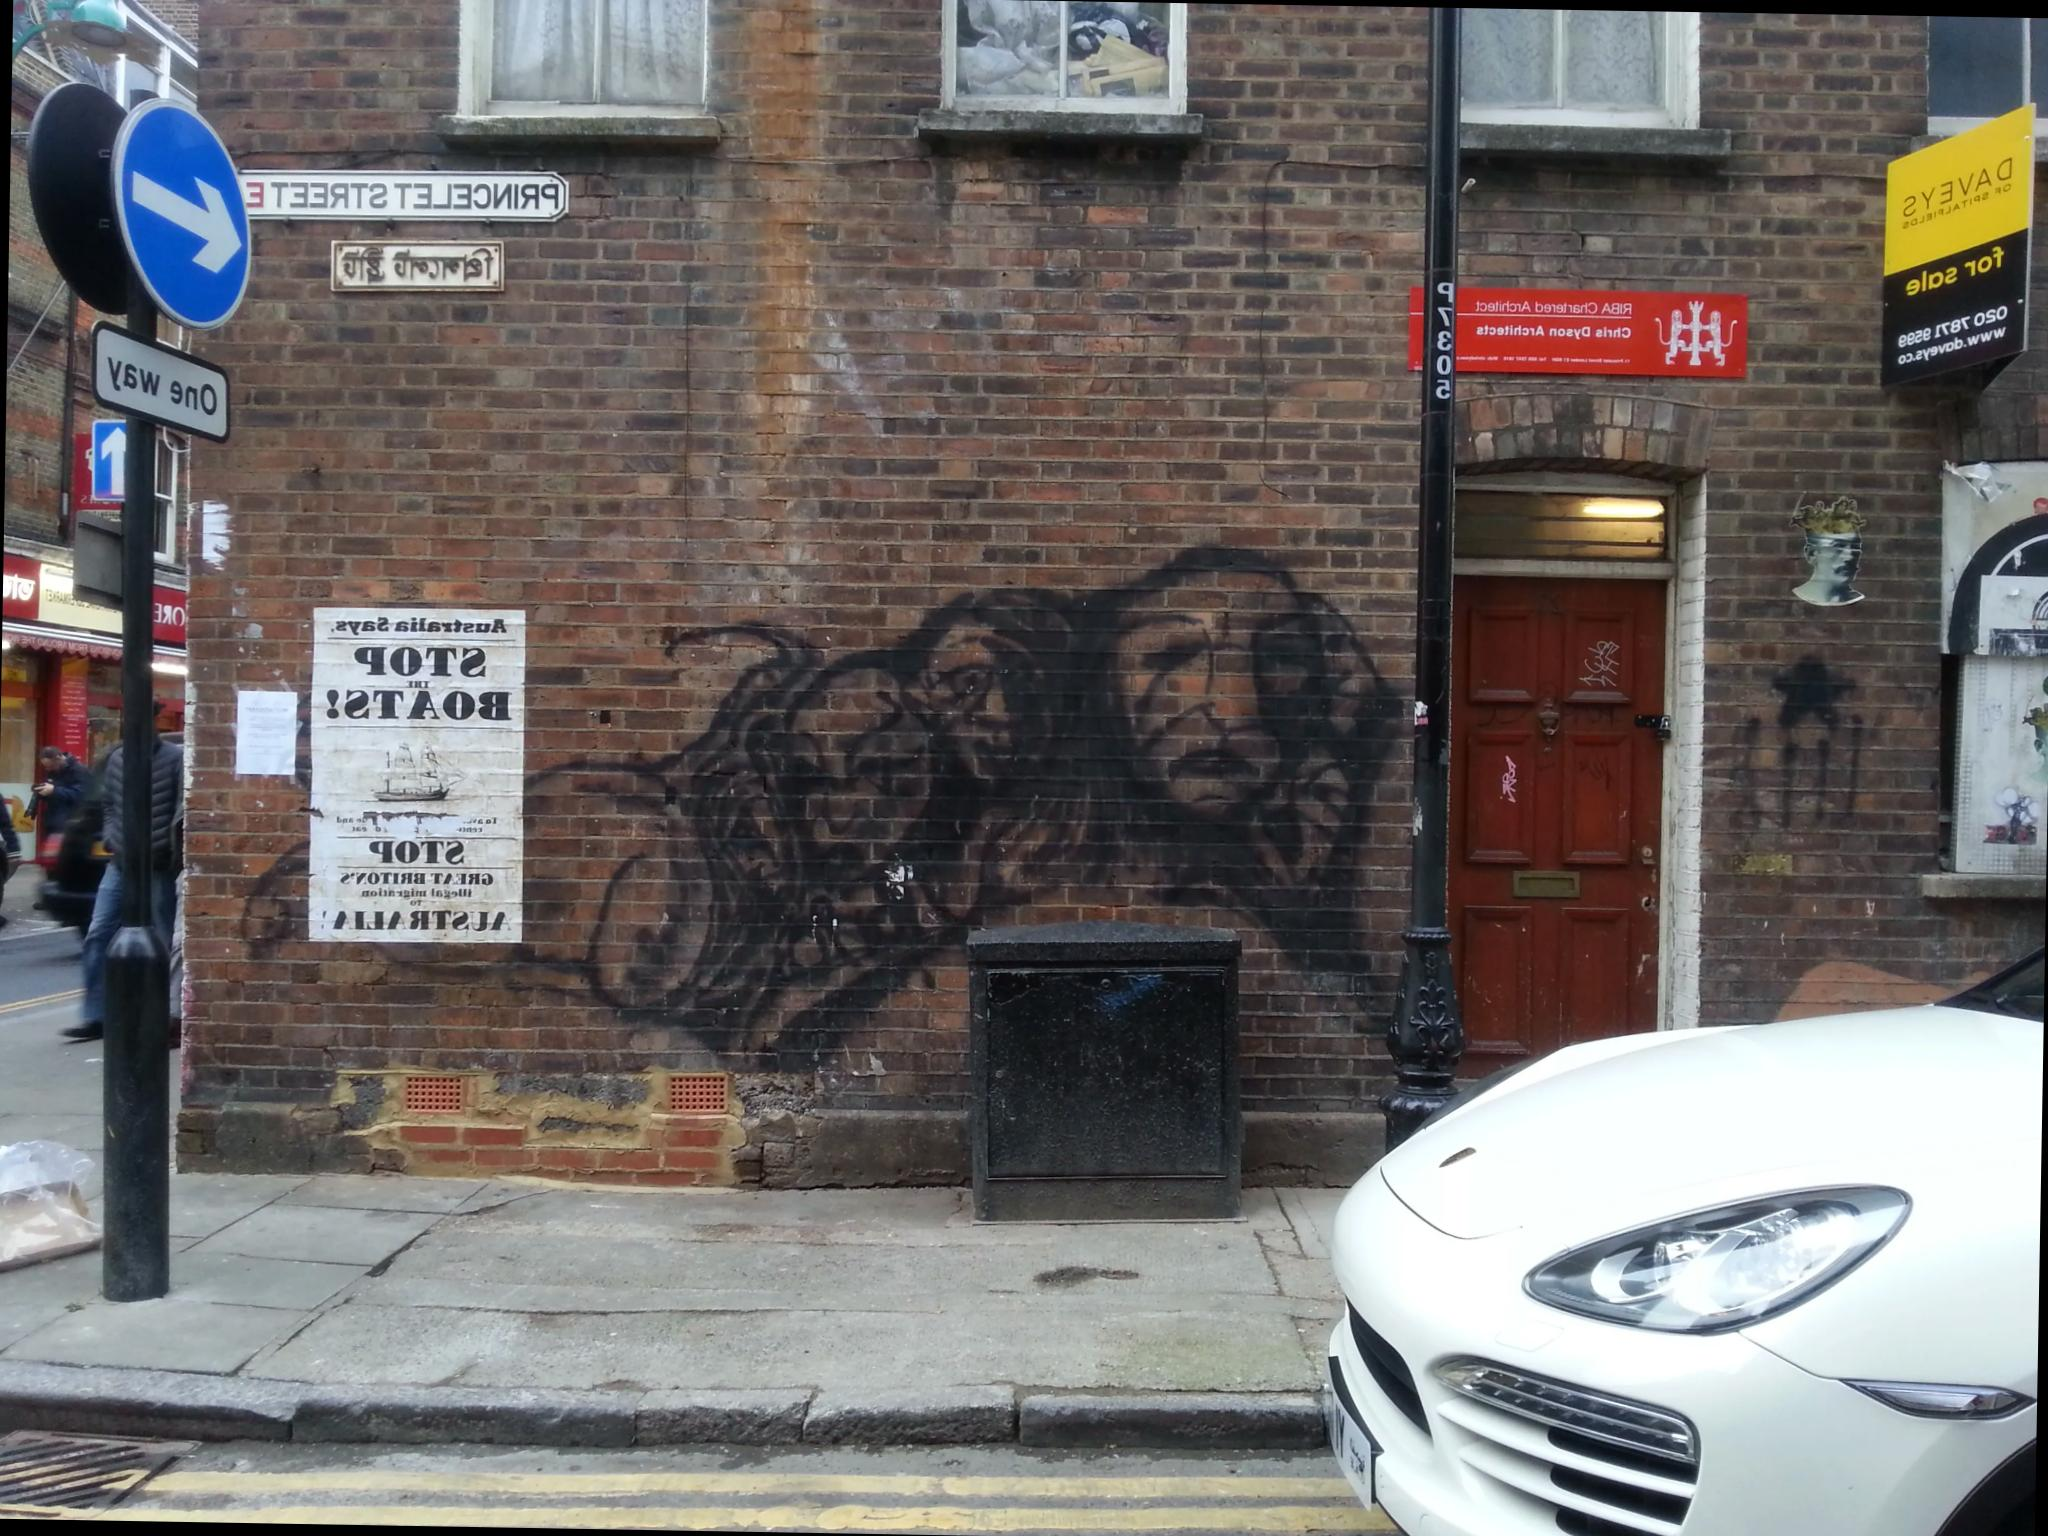graffiti: (582, 545, 1414, 1096), (1714, 479, 1869, 850)
trash: (0, 1129, 103, 1275)
